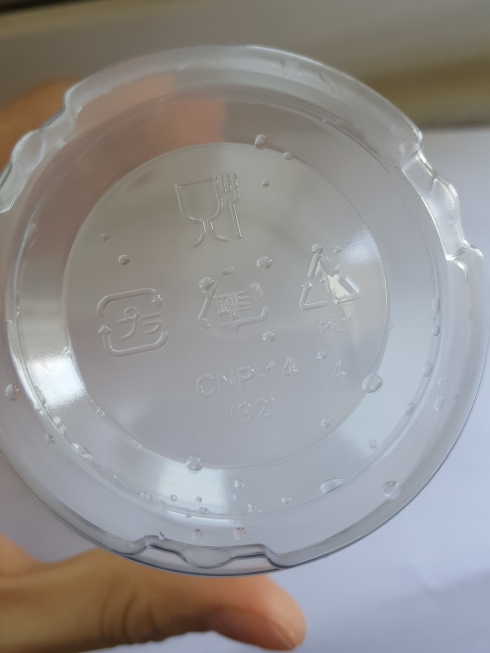recycle: (291, 237, 377, 344)
